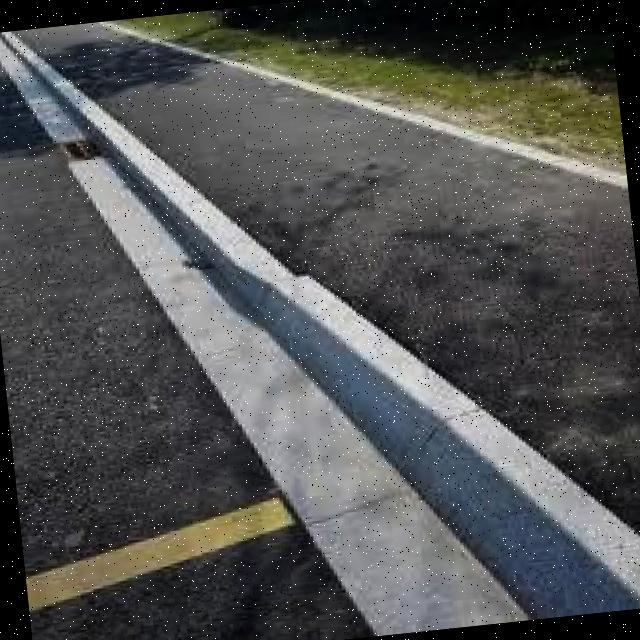curb: (187, 236, 494, 530), (344, 411, 640, 638), (3, 27, 159, 194), (110, 154, 263, 289)
